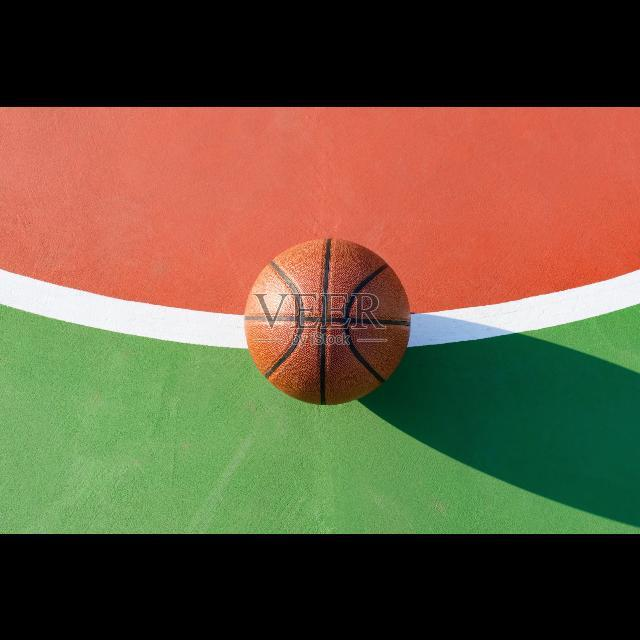basketball: (245, 238, 410, 404)
